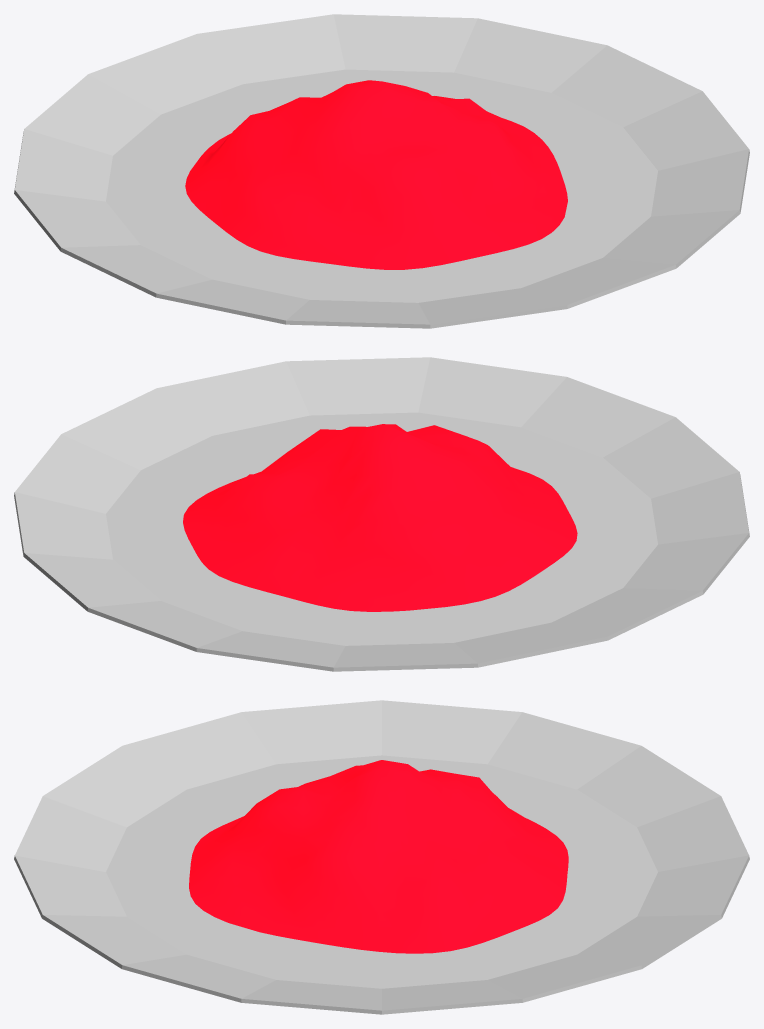
File: plate.fbx
3 renders of one model, top to bottom at view 1: azimuth 30°, elevation 25°; view 2: azimuth 150°, elevation 25°; view 3: azimuth 270°, elevation 25°, orthographic.
Parts seen in each view (by area): view 1: Circle.010, Plane.002; view 2: Circle.010, Plane.002; view 3: Circle.010, Plane.002.
Boxes of the visible parts, <box> form: Circle.010: <box>14,14,749,328</box>; Plane.002: <box>185,80,567,269</box>; Circle.010: <box>14,357,749,671</box>; Plane.002: <box>183,424,577,611</box>; Circle.010: <box>14,700,749,1014</box>; Plane.002: <box>189,760,568,953</box>.
Size of the model in its own units: 88.07 by 14.23 by 88.07.
